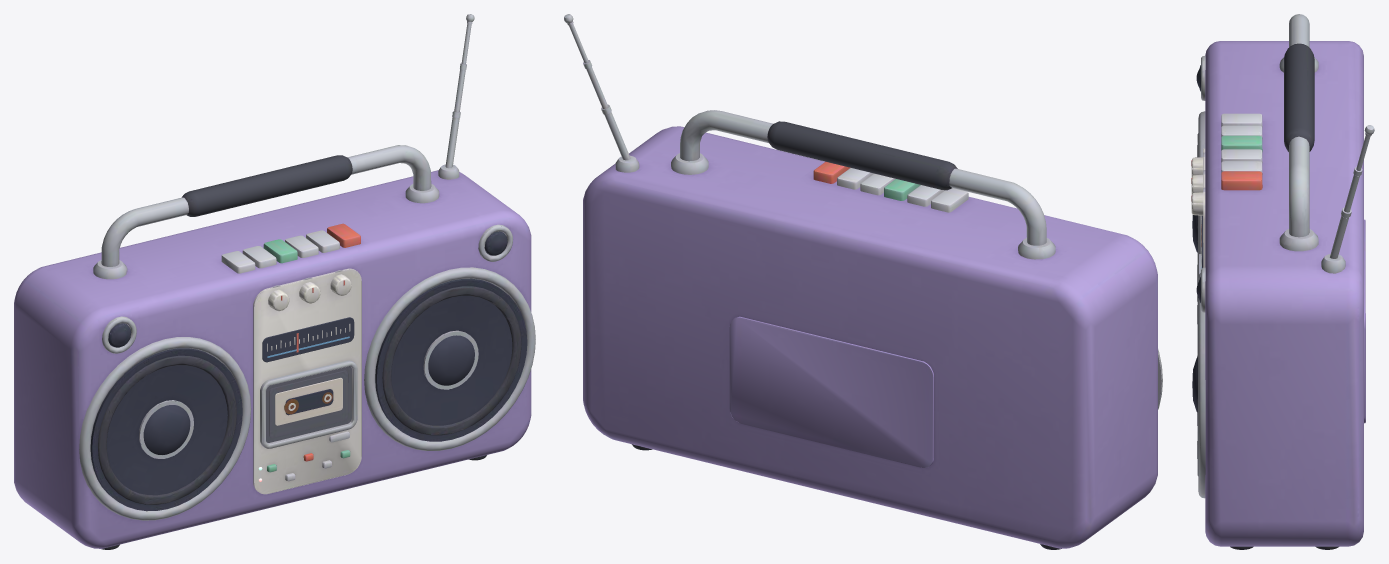
Rendered from radiocasete.glb.
3 renders of one model, left to right at view 1: azimuth 30°, elevation 25°; view 2: azimuth 150°, elevation 25°; view 3: azimuth 270°, elevation 25°, orthographic. The views are drawn at different scales.
Parts seen in each view (by area): view 1: boombox_body; view 2: boombox_body; view 3: boombox_body.
Boxes of the visible parts, x1,y1,x2,y2 form: boombox_body: (14,14,535,549); boombox_body: (564,14,1162,549); boombox_body: (1191,14,1374,549).
Bounding box in the file's own units: 0.5093 × 0.4038 × 0.1502.
8 materials, 1 textured.
